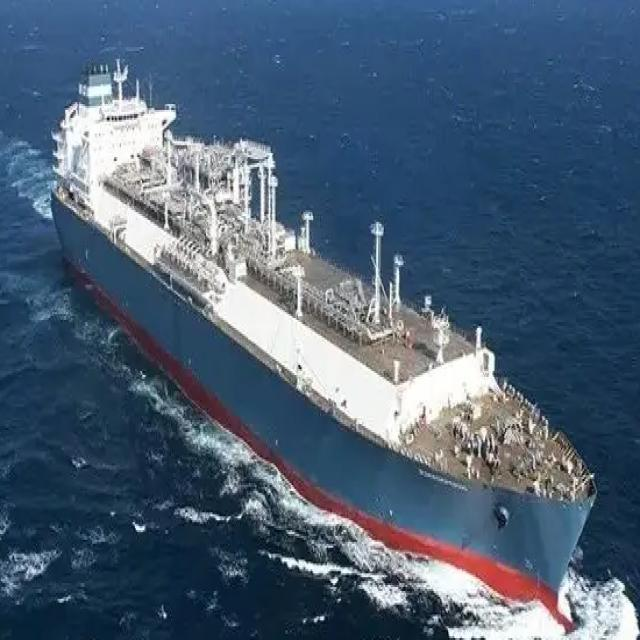navalvessels: (48, 28, 599, 628)
